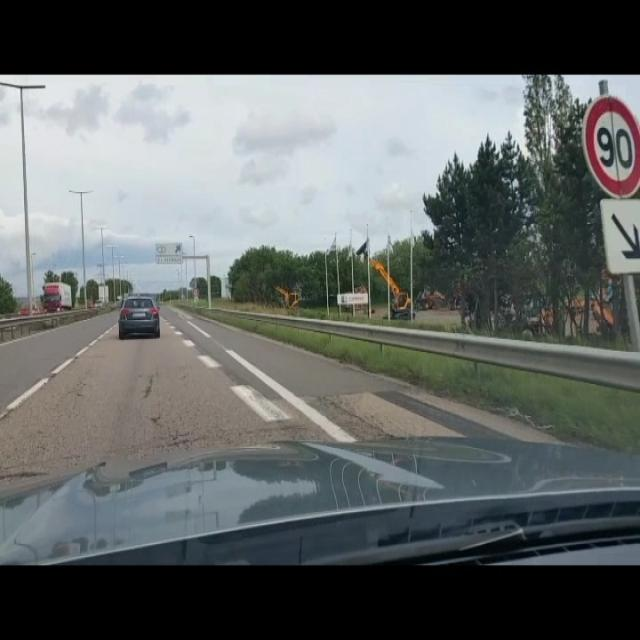direction: (156, 242, 185, 265)
side_right: (599, 201, 640, 274)
speed_90: (583, 91, 640, 198)
